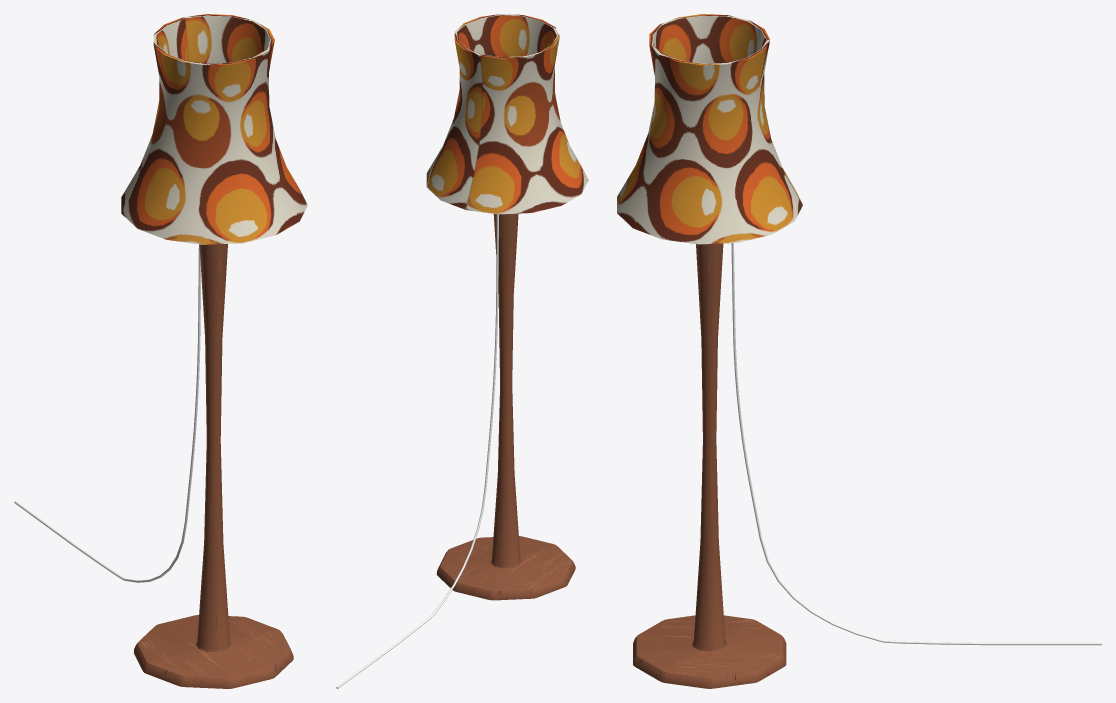
File: Lamp_LV 1.fbx
The picture shows the model from 3 angles, left to right: view 1: azimuth 30°, elevation 25°; view 2: azimuth 150°, elevation 25°; view 3: azimuth 270°, elevation 25°; orthographic projection. The views are drawn at different scales.
Parts seen in each view (by area): view 1: Lamp_Shade, Lamp_Base, Lamp_Wire; view 2: Lamp_Shade, Lamp_Base, Lamp_Wire; view 3: Lamp_Shade, Lamp_Base, Lamp_Wire.
Boxes of the visible parts, x1=… form: Lamp_Shade: x1=121, y1=14, x2=307, y2=244; Lamp_Base: x1=134, y1=244, x2=293, y2=688; Lamp_Wire: x1=14, y1=244, x2=200, y2=582; Lamp_Shade: x1=426, y1=14, x2=588, y2=214; Lamp_Base: x1=436, y1=213, x2=575, y2=600; Lamp_Wire: x1=336, y1=214, x2=498, y2=688; Lamp_Shade: x1=617, y1=14, x2=802, y2=244; Lamp_Base: x1=633, y1=243, x2=786, y2=688; Lamp_Wire: x1=731, y1=243, x2=1101, y2=645.
Bounding box in the file's own units: 33.95 × 123 × 88.
Materials: 3 (2 with a texture image).
